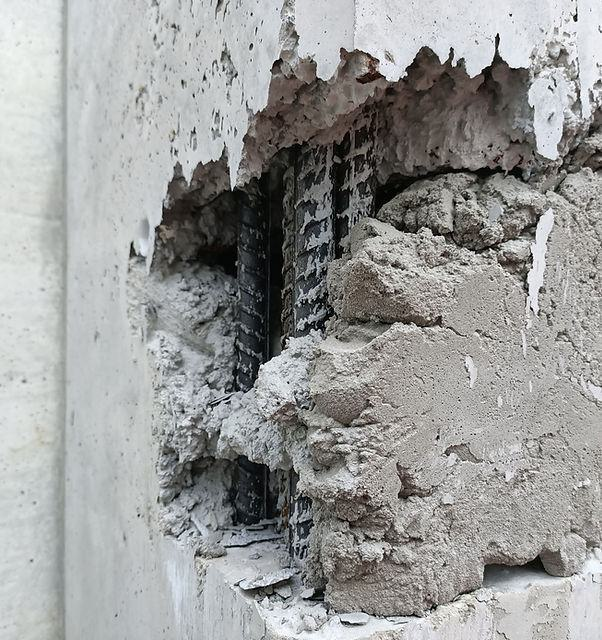Exposed reinforcement: (280, 140, 336, 353), (233, 173, 268, 394), (335, 110, 377, 262), (278, 466, 315, 562), (231, 456, 270, 527)
Spalling: (122, 1, 602, 640)
